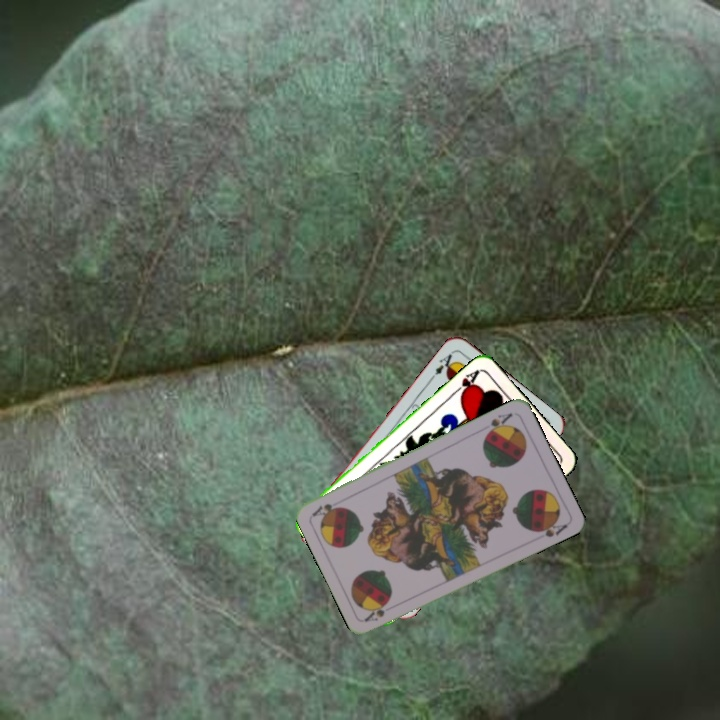EA: (431, 347, 458, 378)
HA: (448, 365, 482, 400)
SA: (481, 409, 515, 438), (361, 599, 391, 624)
